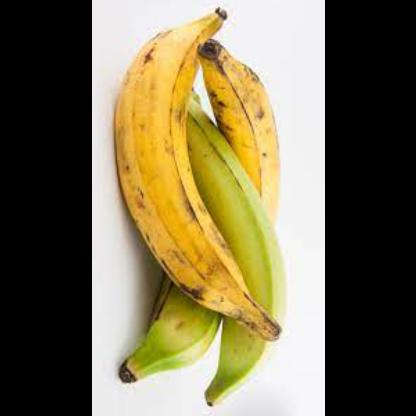banana: (115, 9, 283, 341), (186, 93, 286, 407), (198, 38, 280, 226), (118, 279, 222, 383)
